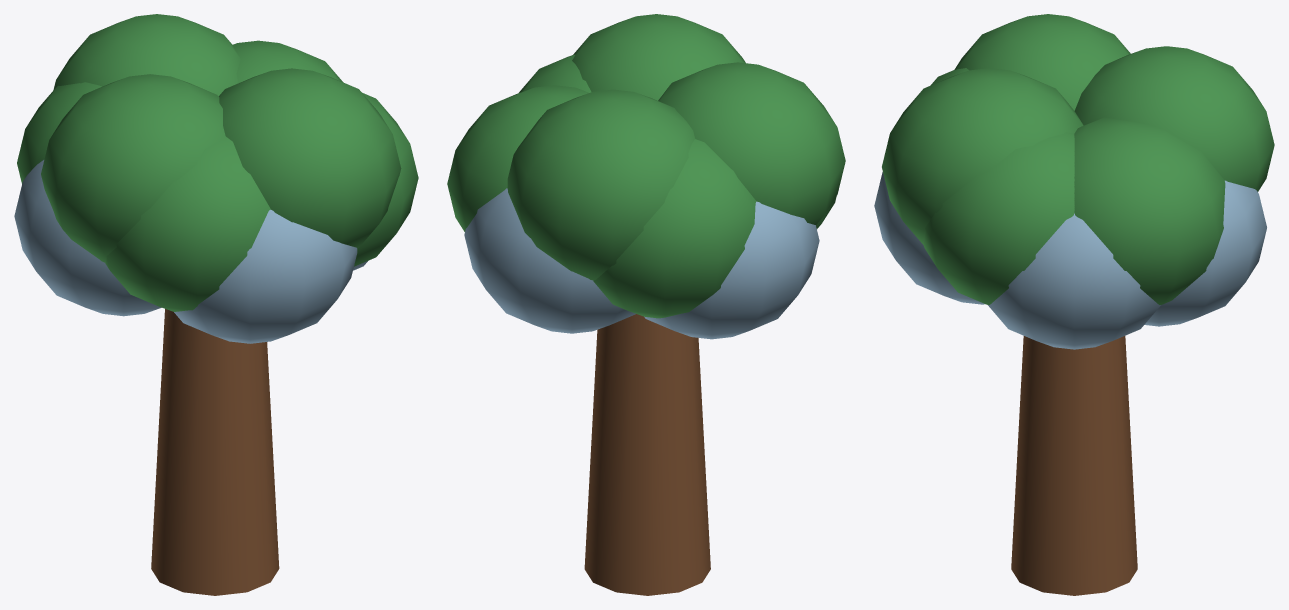
Rendered from star_tree.glb.
3 renders of one model, left to right at view 1: azimuth 30°, elevation 25°; view 2: azimuth 150°, elevation 25°; view 3: azimuth 270°, elevation 25°, orthographic.
Visible parts, largest first — view 1: trunk, crown_2, crown_5, crown_4, crown_3, crown_8, crown_6, crown_1, crown_7, crown_10; view 2: trunk, crown_8, crown_5, crown_7, crown_9, crown_6, crown_2, crown_10, crown_1; view 3: trunk, crown_10, crown_2, crown_8, crown_1, crown_0, crown_5, crown_9, crown_3.
Part boxes in pixels (<box>): trunk: <box>151,309,279,595</box>; crown_2: <box>219,68,401,248</box>; crown_5: <box>41,74,225,262</box>; crown_4: <box>105,136,270,311</box>; crown_3: <box>174,209,357,343</box>; crown_8: <box>53,14,240,96</box>; crown_6: <box>14,160,161,316</box>; crown_1: <box>354,92,418,266</box>; crown_7: <box>17,82,101,183</box>; crown_10: <box>233,40,343,83</box>; trunk: <box>584,314,710,595</box>; crown_8: <box>507,89,694,280</box>; crown_5: <box>658,62,845,224</box>; crown_7: <box>593,139,756,318</box>; crown_9: <box>464,188,635,333</box>; crown_6: <box>644,201,819,339</box>; crown_2: <box>572,14,745,100</box>; crown_10: <box>447,85,588,231</box>; crown_1: <box>519,54,591,92</box>; trunk: <box>1011,336,1137,595</box>; crown_10: <box>1074,117,1225,304</box>; crown_2: <box>882,68,1083,244</box>; crown_8: <box>1074,46,1274,191</box>; crown_1: <box>923,132,1074,304</box>; crown_0: <box>988,213,1160,349</box>; crown_5: <box>954,14,1130,110</box>; crown_9: <box>1144,180,1266,326</box>; crown_3: <box>874,172,984,304</box>.
Size of what is drawn, in the model's own units: 5.35 by 7.5 by 5.37.
